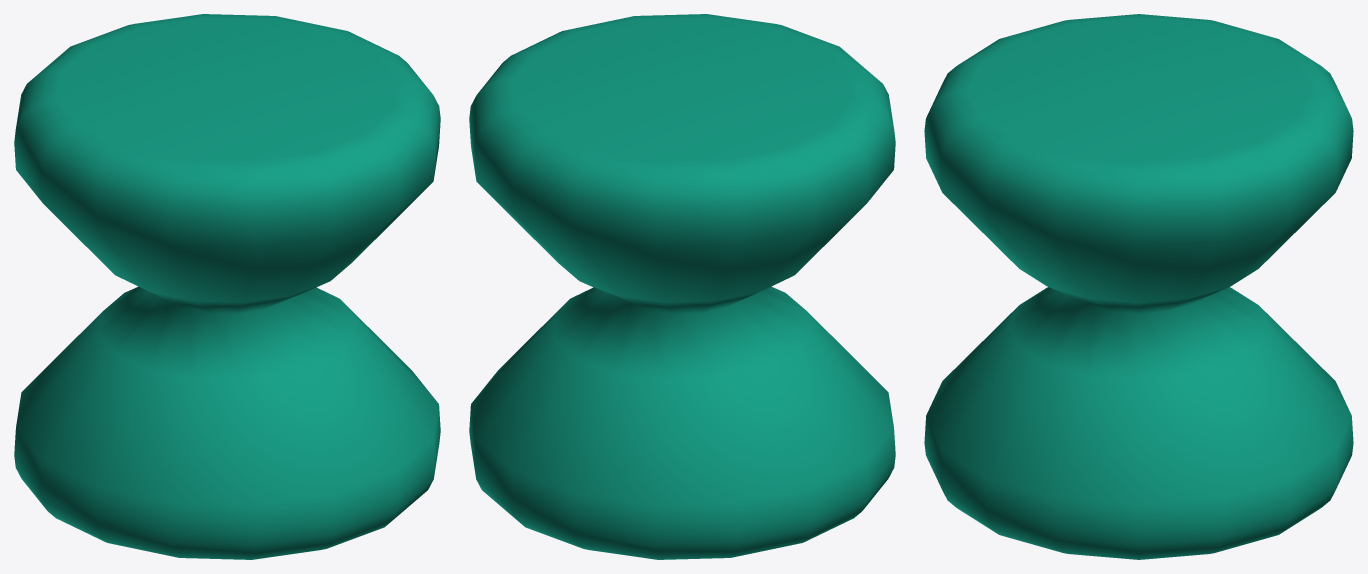
The model's file is hourglass.fbx.
The picture shows the model from 3 angles, left to right: view 1: azimuth 30°, elevation 25°; view 2: azimuth 150°, elevation 25°; view 3: azimuth 270°, elevation 25°; orthographic projection.
Visible parts, largest first — view 1: Cylinder; view 2: Cylinder; view 3: Cylinder.
Boxes of the visible parts, box(x1,y1,x2,y2) form: Cylinder: box(14, 14, 440, 559); Cylinder: box(469, 14, 895, 559); Cylinder: box(924, 14, 1353, 559).
Bounding box in the file's own units: 661 × 669 × 661.
